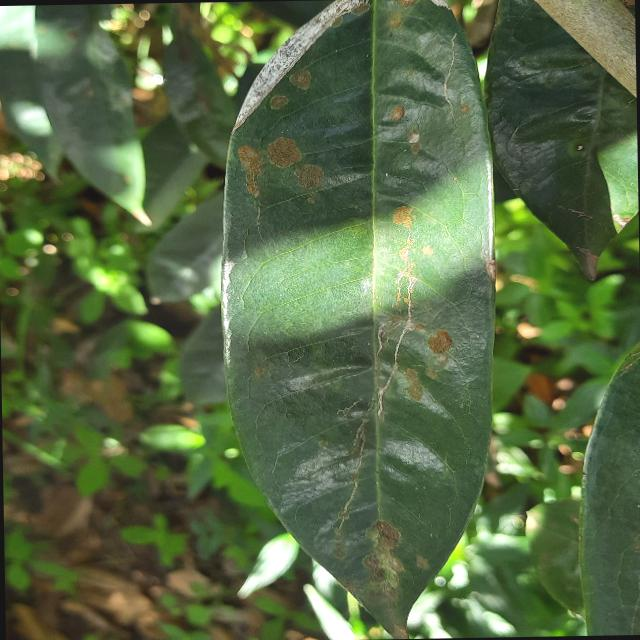Algal Leaf Spot: (209, 0, 514, 639)
